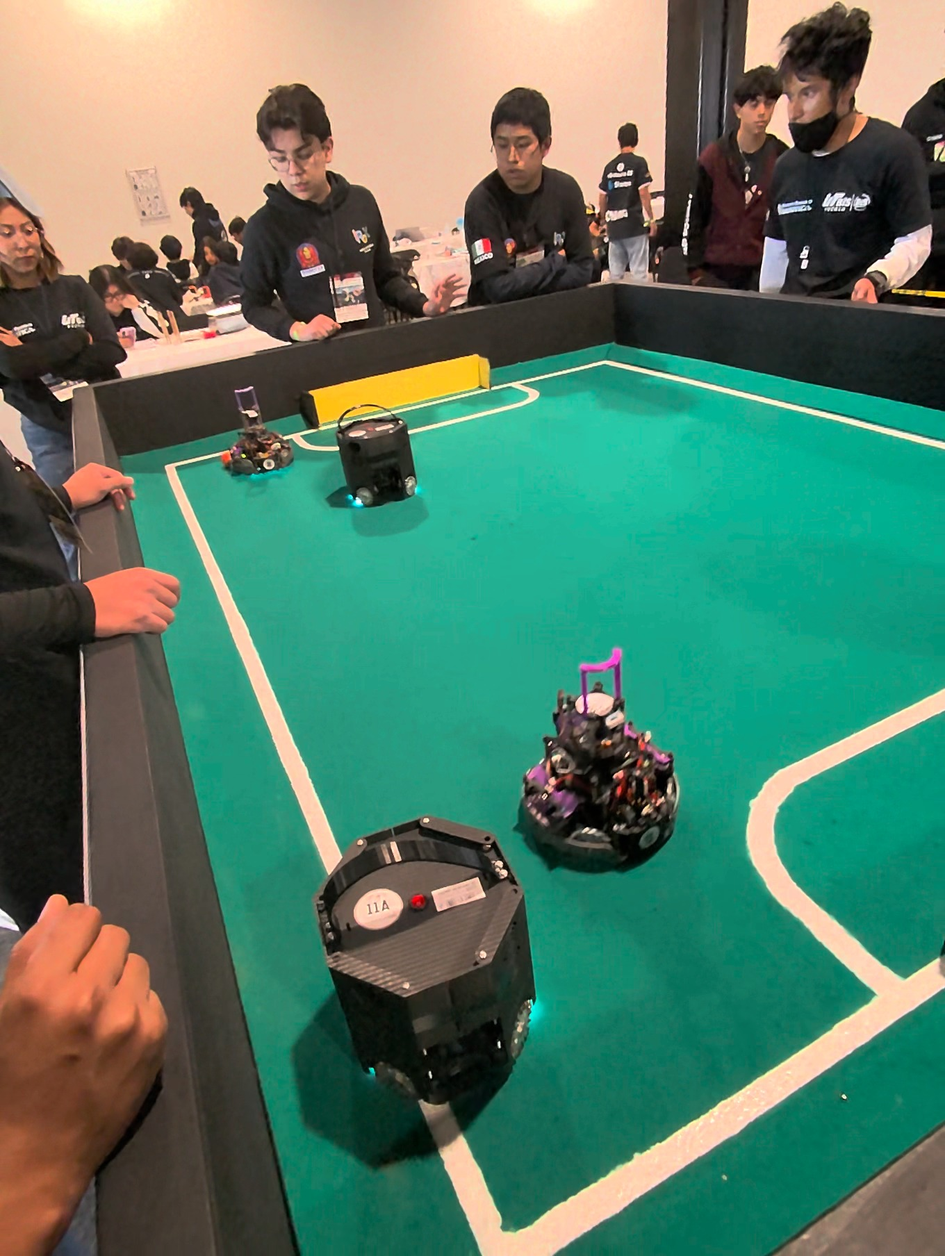Robot: (280, 804, 548, 1128), (524, 672, 682, 880), (335, 385, 430, 529), (219, 384, 293, 484)
pelota: (208, 438, 236, 476)
